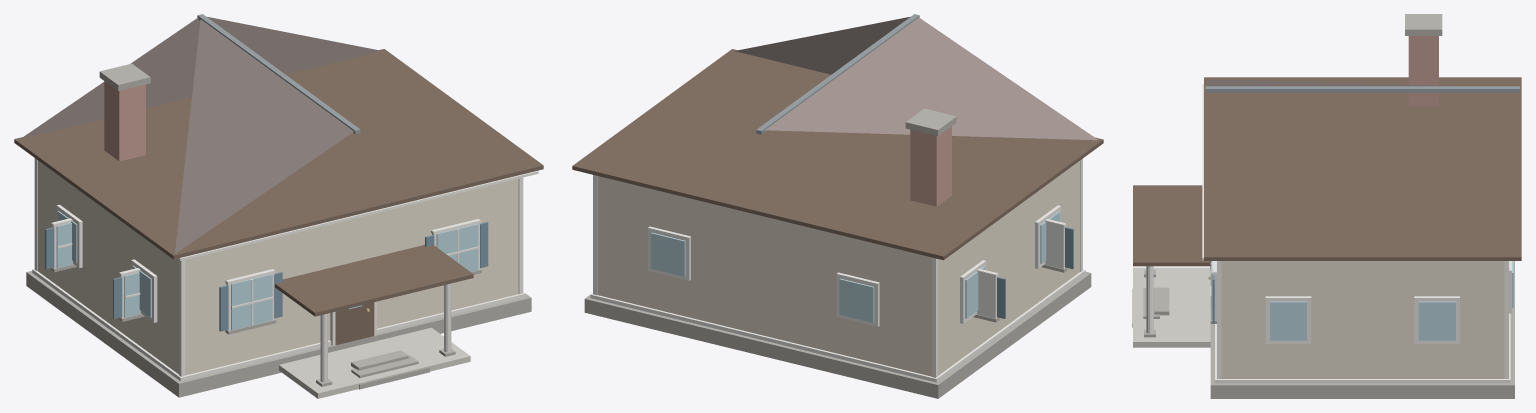
Rendered from house_founders.glb.
3 views of the same model, side by side, from view 1: azimuth 30°, elevation 25°; view 2: azimuth 150°, elevation 25°; view 3: azimuth 270°, elevation 25° (orthographic).
Visible parts, largest first — view 1: p004, p000, p003, p007, p001, p006, p063, p002, p020, p071, p016, p028 (+13 smaller); view 2: p000, p004, p003, p001, p063, p002, p062, p060, p005, p064, p043, p035 (+7 smaller); view 3: p004, p000, p007, p001, p006, p005, p063, p002, p056, p058, p003, p057 (+7 smaller).
Boxes of the visible parts, bbox=[...] form: p004: bbox=[14, 49, 543, 259]; p000: bbox=[37, 160, 518, 375]; p003: bbox=[20, 17, 381, 253]; p007: bbox=[275, 245, 473, 316]; p001: bbox=[26, 271, 531, 397]; p006: bbox=[279, 327, 470, 398]; p063: bbox=[104, 81, 145, 161]; p002: bbox=[32, 268, 525, 381]; p020: bbox=[231, 274, 272, 330]; p071: bbox=[177, 170, 538, 260]; p016: bbox=[335, 302, 374, 345]; p028: bbox=[436, 224, 478, 271]; p000: bbox=[597, 161, 1079, 376]; p004: bbox=[572, 49, 1103, 260]; p003: bbox=[735, 16, 1097, 140]; p001: bbox=[584, 271, 1091, 398]; p063: bbox=[910, 126, 951, 206]; p002: bbox=[590, 269, 1085, 382]; p062: bbox=[650, 232, 685, 276]; p060: bbox=[839, 278, 874, 322]; p005: bbox=[756, 14, 919, 134]; p064: bbox=[905, 108, 956, 136]; p043: bbox=[1045, 219, 1065, 269]; p035: bbox=[976, 268, 997, 318]; p004: bbox=[1204, 77, 1521, 260]; p000: bbox=[1221, 261, 1504, 378]; p007: bbox=[1133, 185, 1211, 266]; p001: bbox=[1210, 261, 1514, 398]; p006: bbox=[1133, 267, 1210, 347]; p005: bbox=[1205, 86, 1519, 92]; p063: bbox=[1408, 36, 1438, 106]; p002: bbox=[1215, 313, 1510, 383]; p056: bbox=[1418, 301, 1455, 340]; p058: bbox=[1270, 301, 1306, 340]; p003: bbox=[1207, 79, 1454, 86]; p057: bbox=[1265, 296, 1311, 343].
Bounding box in the file's own units: 13.11 × 7.56 × 11.52.
